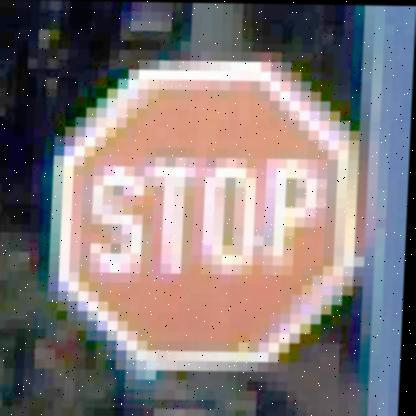Stop Sign: (46, 58, 368, 378)
